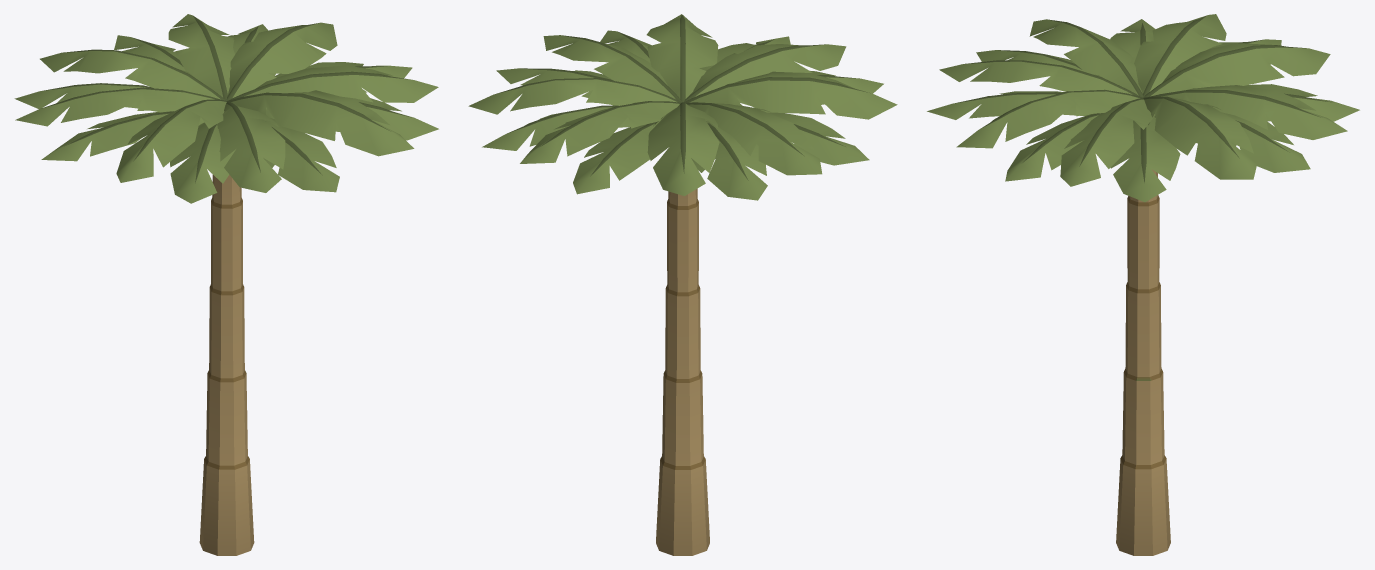
The model's file is PalmTree_Geo.glb.
The picture shows the model from 3 angles, left to right: view 1: azimuth 30°, elevation 25°; view 2: azimuth 150°, elevation 25°; view 3: azimuth 270°, elevation 25°; orthographic projection.
Visible parts, largest first — view 1: PalmTree_INV; view 2: PalmTree_INV; view 3: PalmTree_INV.
Boxes of the visible parts, x1=… form: PalmTree_INV: x1=14, y1=14, x2=438, y2=555; PalmTree_INV: x1=468, y1=14, x2=897, y2=555; PalmTree_INV: x1=927, y1=14, x2=1359, y2=555.
Size of the model in its own units: 0.2187 by 0.2622 by 0.2187.
1 material, 1 textured.
